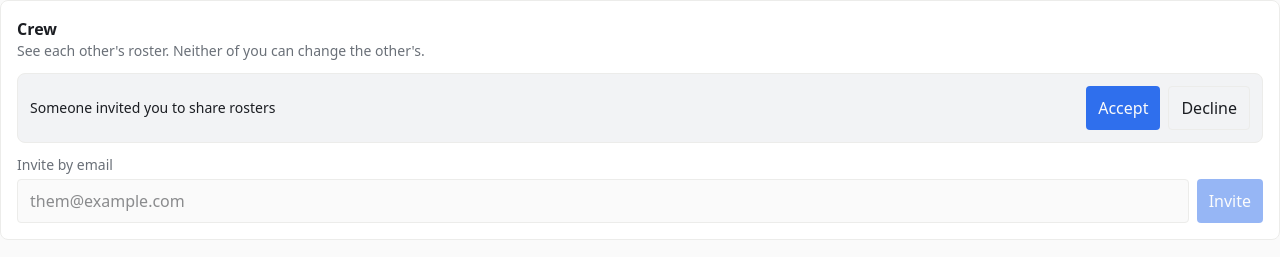
Test: CrewPanel › accepts an invite addressed to you, then shows the pairing
Click the button with test id "crew-accept-inv-9" at (1123, 108), box x1=1086 y1=86 x2=1160 y2=130
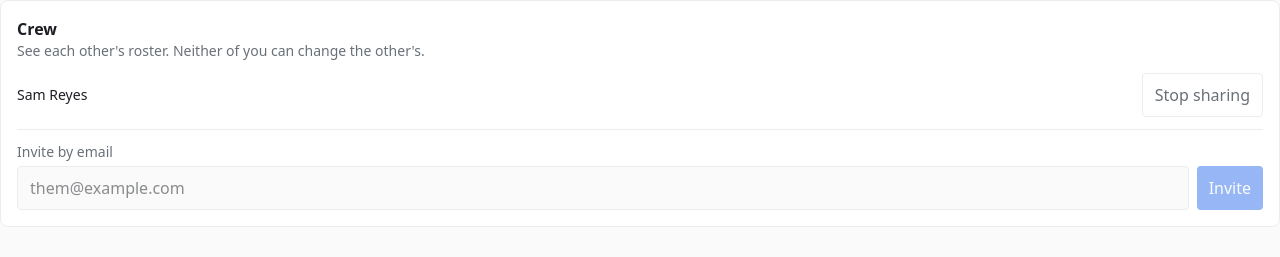
Expected: the element with test id "crew-member-u-2" shows "Sam Reyes", x1=17 y1=85 x2=87 y2=104
Expected: the element with test id "crew-invite-received-inv-9" is gone
